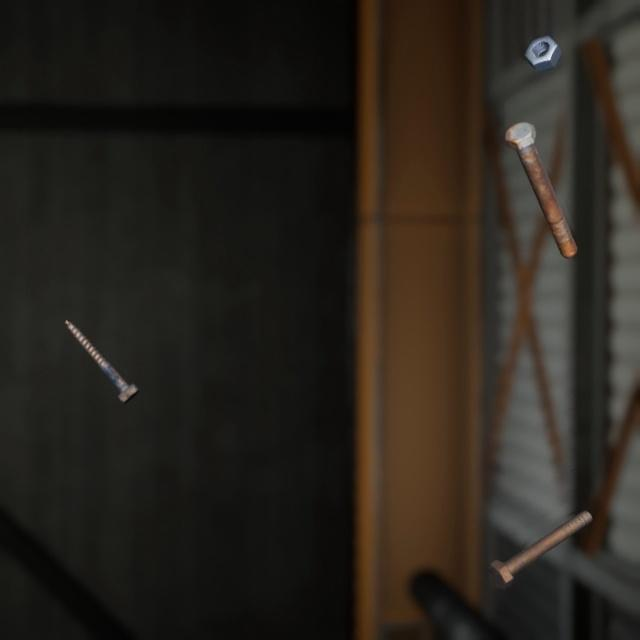bolt: (500, 102, 581, 248), (482, 484, 596, 571), (60, 297, 143, 389)
nut: (519, 21, 567, 66)
